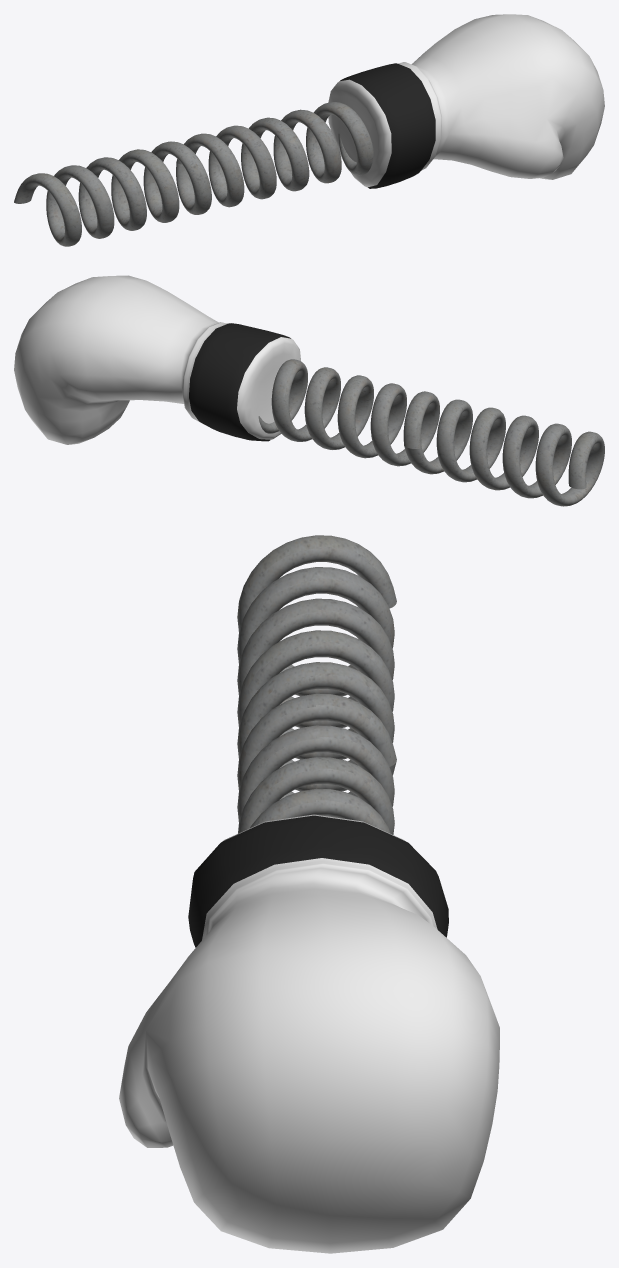
The model's file is Glove.fbx.
The picture shows the model from 3 angles, top to bottom: view 1: azimuth 30°, elevation 25°; view 2: azimuth 150°, elevation 25°; view 3: azimuth 270°, elevation 25°; orthographic projection. The views are drawn at different scales.
Visible parts, largest first — view 1: Glove; view 2: Glove; view 3: Glove.
Boxes of the visible parts, left/top/right/bottom form: Glove: left=14, top=14, right=604, bottom=246; Glove: left=14, top=275, right=604, bottom=506; Glove: left=119, top=535, right=499, bottom=1253.
Bounding box in the file's own units: 2372 × 598 × 700.
